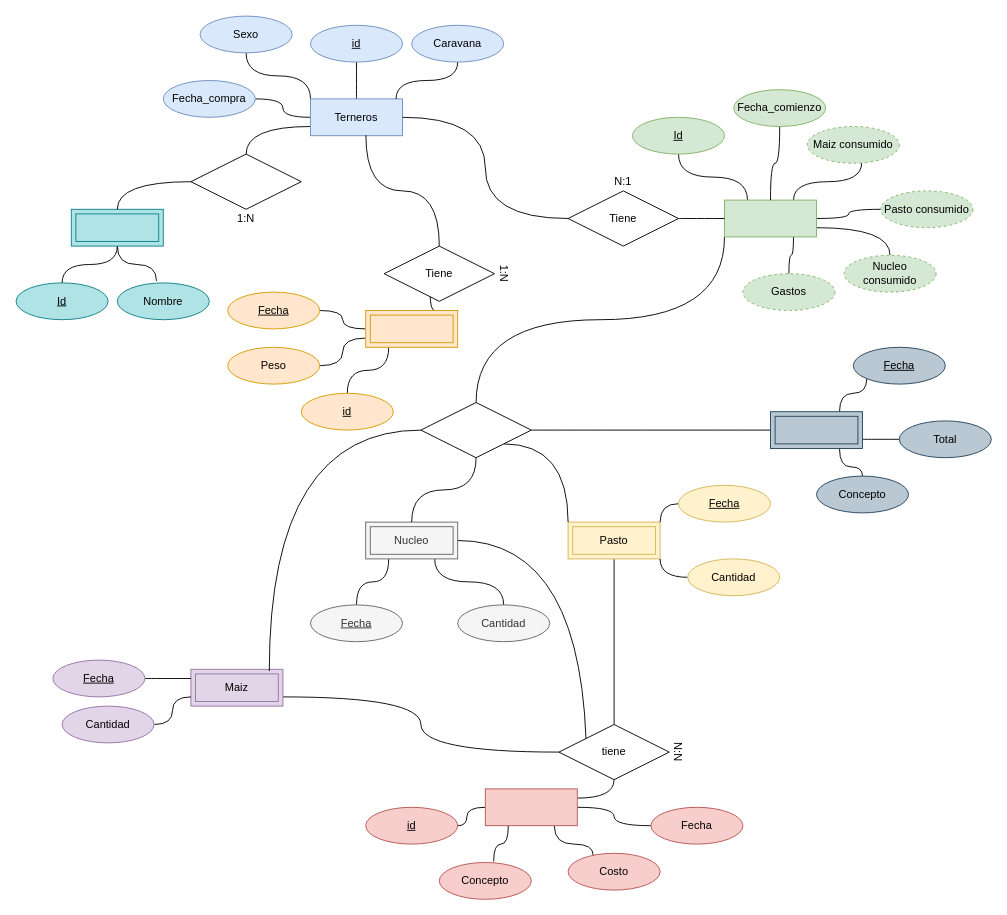
The diagram is 1007 pixels wide and 915 high, and some of its shapes have lost their labels. The shapes that lost their labels are listed below. From the top down, each one's centre as x and y in pixels, then its label:
(245,181): Vende
(116,227): Vendedores
(770,218): Engordes
(411,328): Pesos
(475,430): Consume
(816,429): Otros
(530,807): Precios
